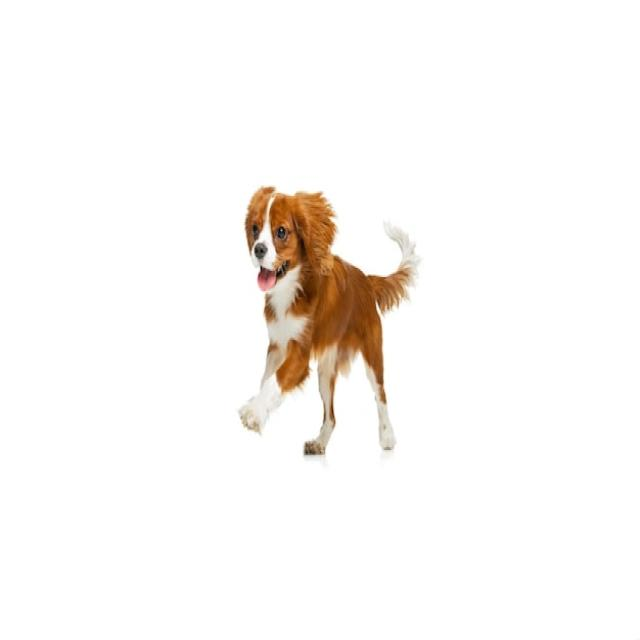Dog: (239, 184, 418, 457)
